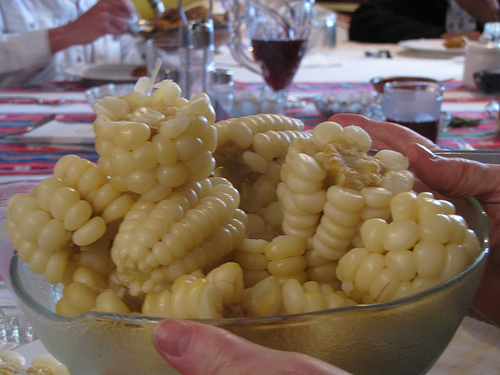corn: (7, 86, 480, 326)
